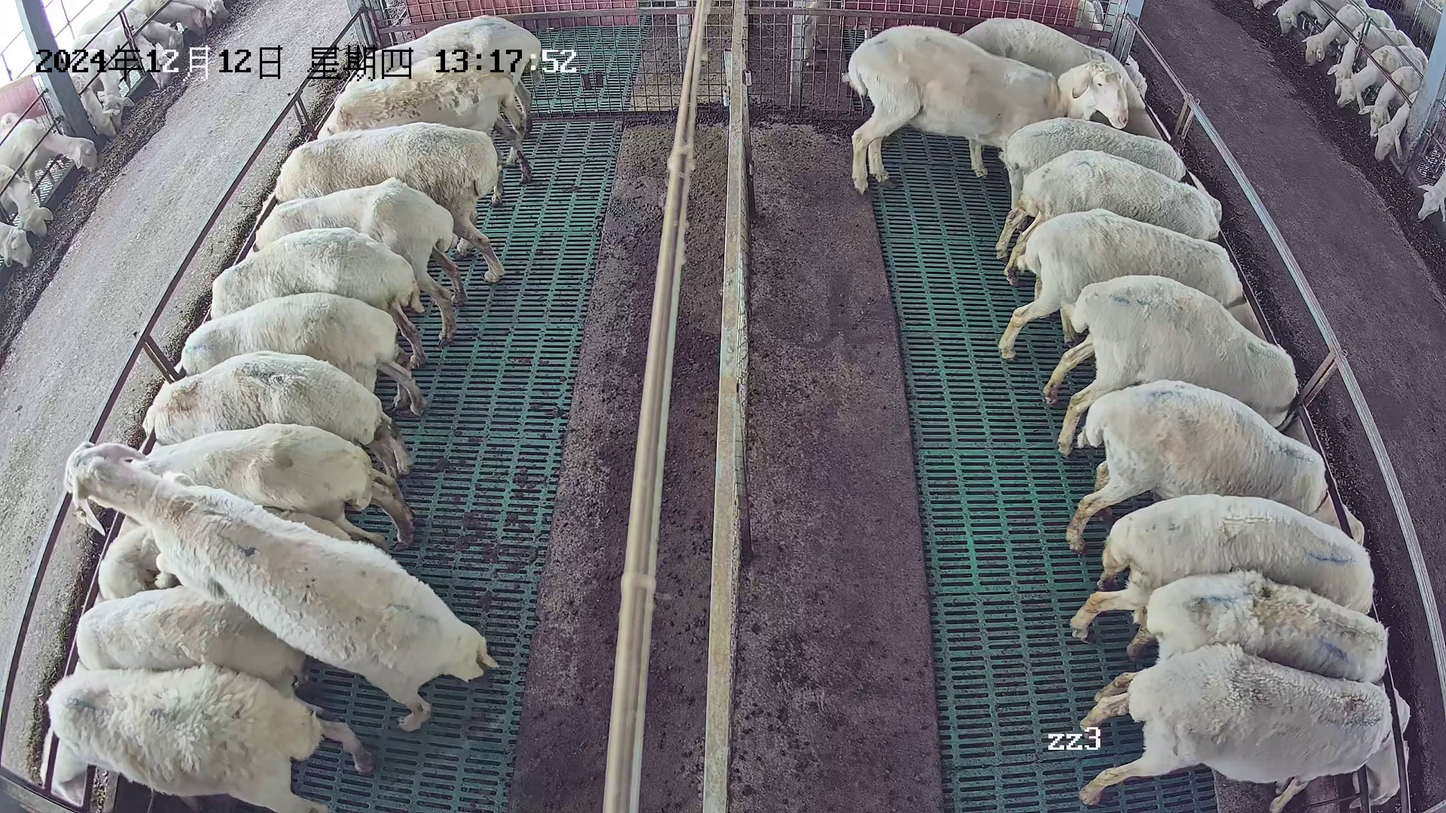Nmounting: (64, 438, 500, 731)
